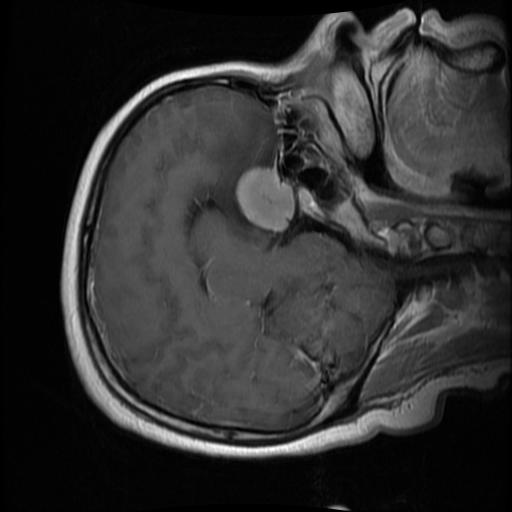meningioma: (232, 165, 294, 233)
